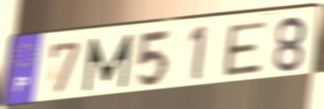1: (186, 23, 207, 83)
5: (132, 27, 174, 88)
7: (49, 39, 82, 96)
8: (272, 14, 308, 74)
E: (223, 19, 269, 78)
M: (81, 32, 136, 94)
